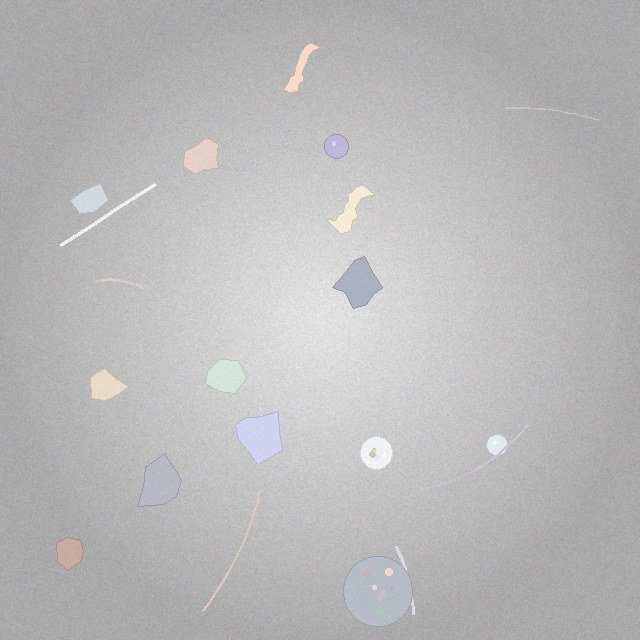fiber: (200, 488, 263, 614), (423, 423, 530, 492), (57, 181, 159, 249), (393, 544, 416, 618), (503, 105, 601, 122), (92, 276, 148, 292)
film: (326, 185, 374, 233), (284, 42, 319, 92)
foam: (344, 557, 413, 626), (360, 437, 392, 469)
fragment: (332, 257, 382, 309), (236, 412, 282, 464), (138, 454, 182, 507), (205, 360, 246, 394), (184, 138, 219, 174), (91, 368, 128, 401), (70, 184, 108, 214), (56, 537, 83, 571)
pellet: (324, 134, 348, 158), (486, 434, 507, 455)
